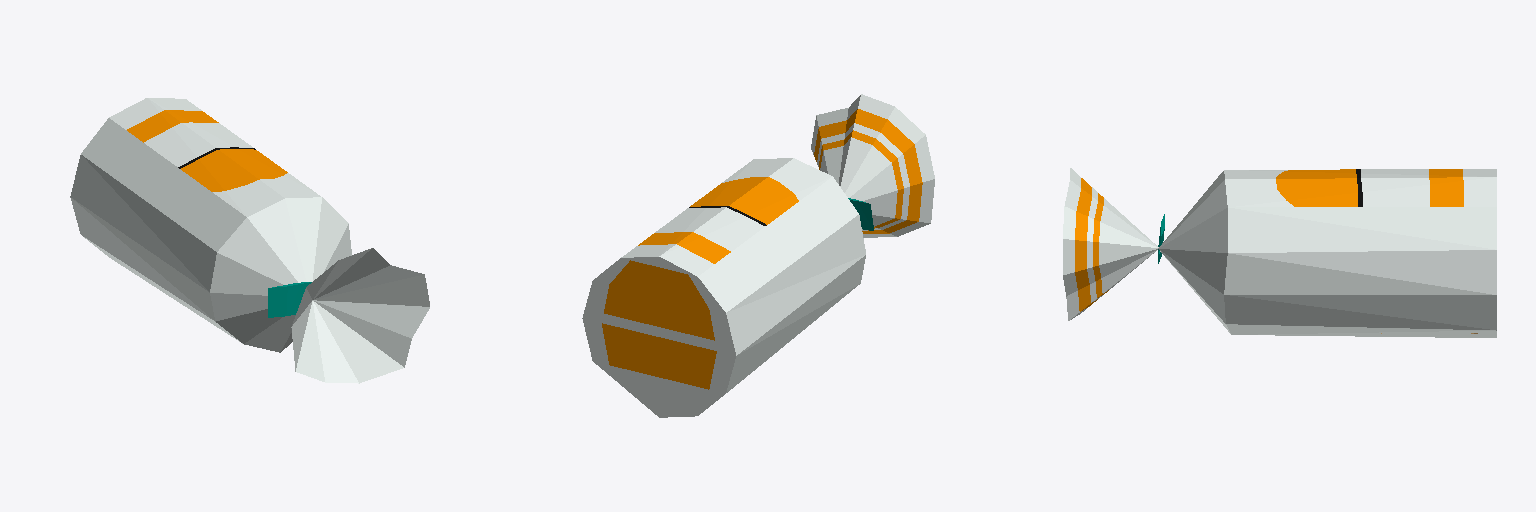
Rendered from Rosquillas.obj.
The picture shows the model from 3 angles: view 1: azimuth 30°, elevation 25°; view 2: azimuth 150°, elevation 25°; view 3: azimuth 270°, elevation 25°; orthographic projection.
Visible parts, largest first — view 1: group[number redacted], group[number redacted], group[number redacted]; view 2: group[number redacted], group[number redacted]; view 3: group[number redacted], group[number redacted].
Part boxes in pixels (x1,y1,x2,y2): group[number redacted]: (70, 98, 351, 352); group[number redacted]: (291, 248, 429, 383); group[number redacted]: (268, 282, 311, 317); group[number redacted]: (582, 158, 865, 417); group[number redacted]: (811, 94, 934, 237); group[number redacted]: (1158, 169, 1496, 337); group[number redacted]: (1063, 168, 1158, 320).
Size of the model in its own units: 1.32 by 1.34 by 3.22.